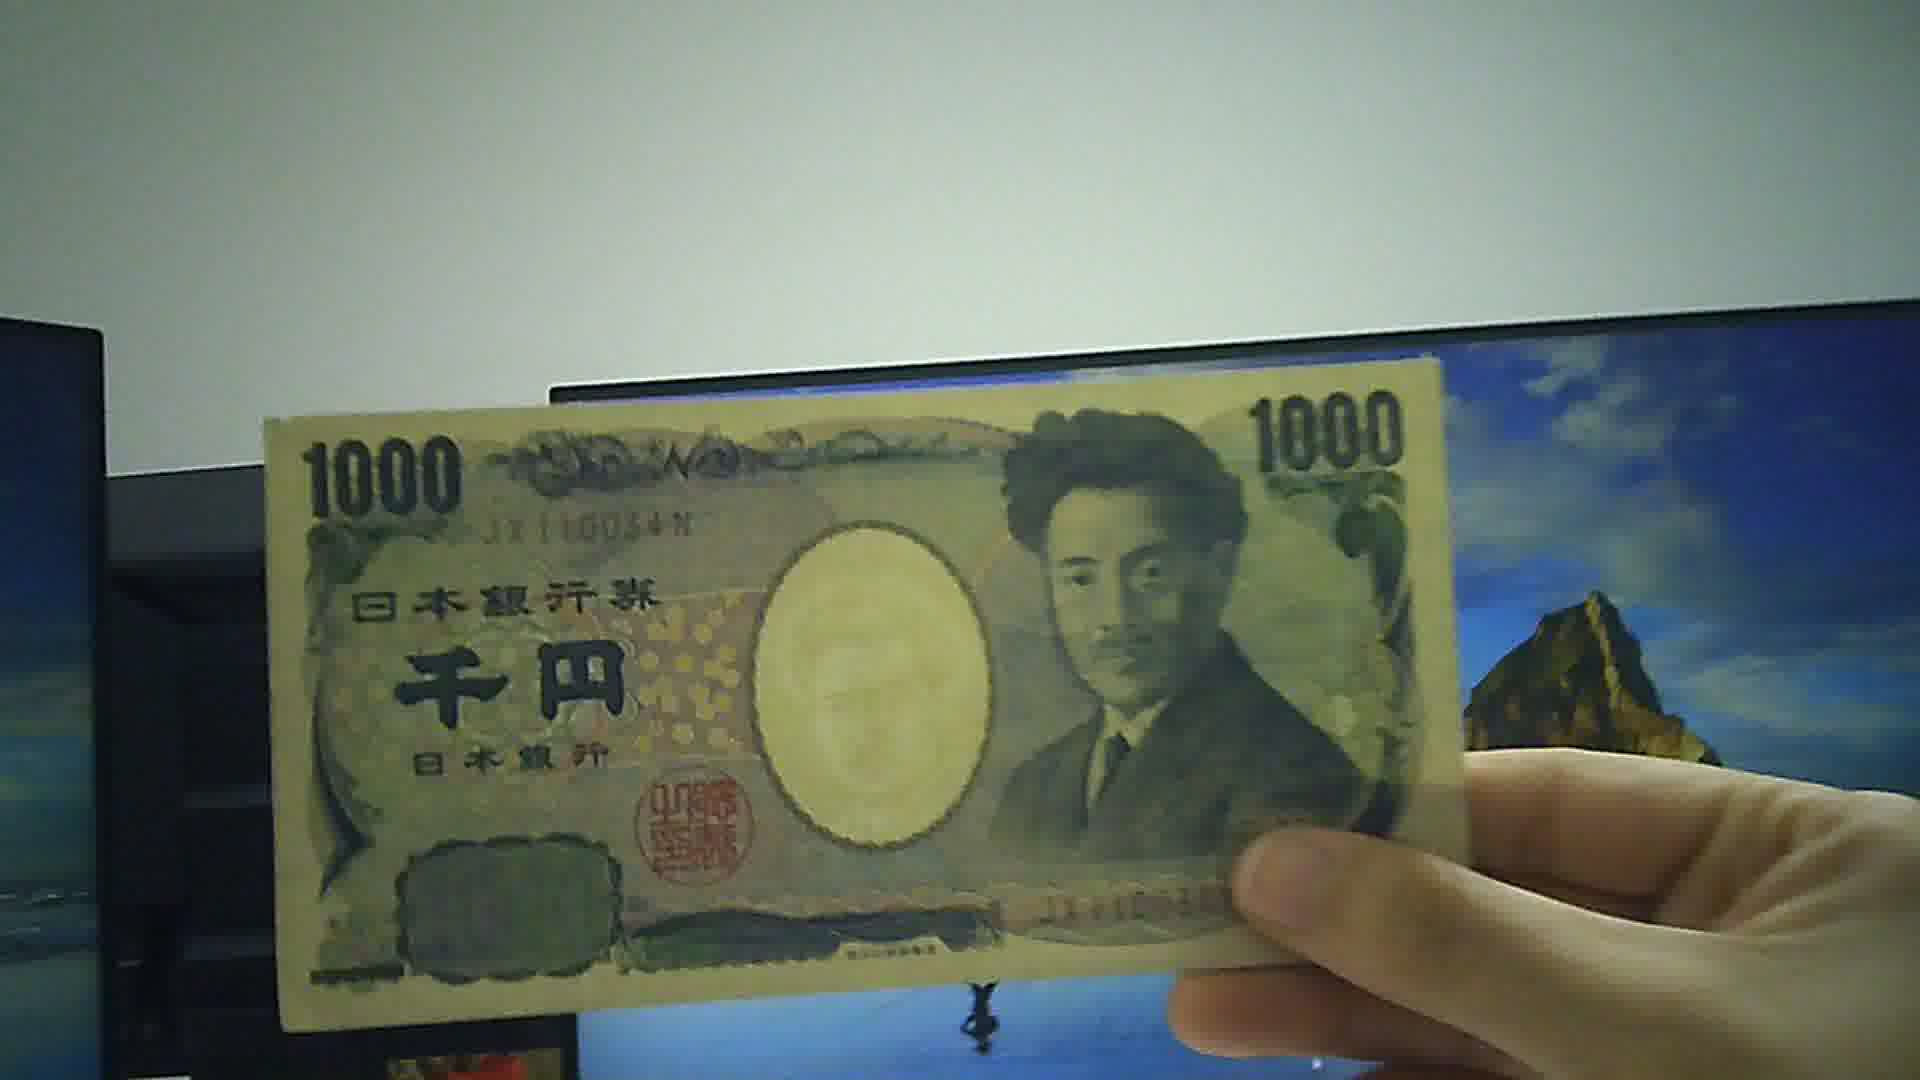1,000 Yen: (257, 373, 1480, 996)
